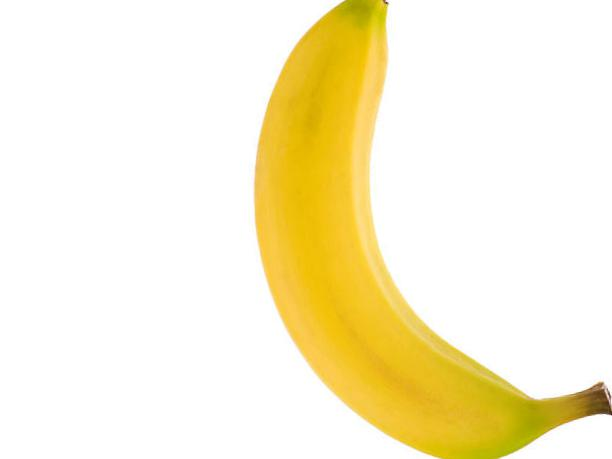banana: (251, 2, 612, 459)
